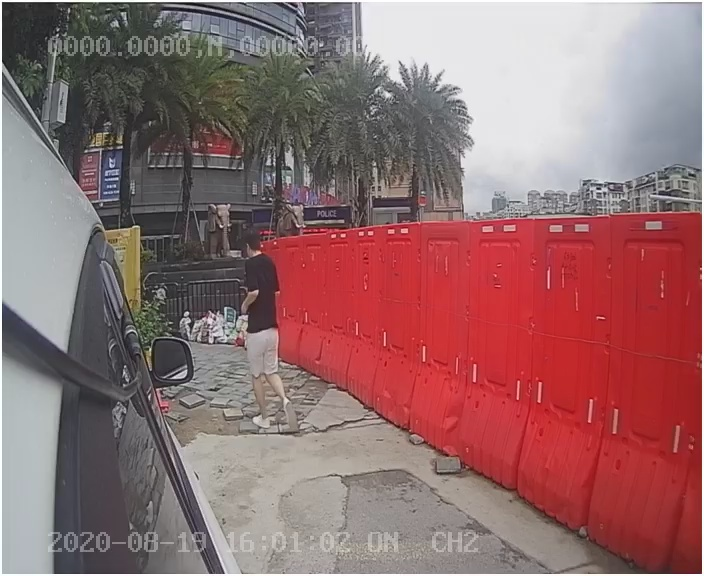person: (228, 231, 315, 440)
